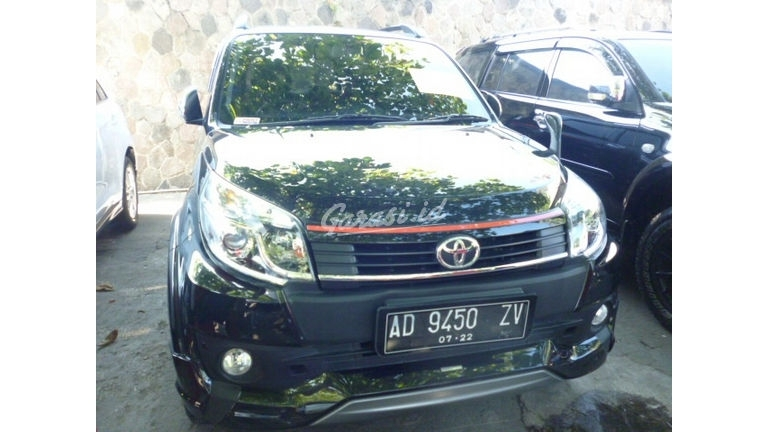plate: (383, 305, 526, 348)
